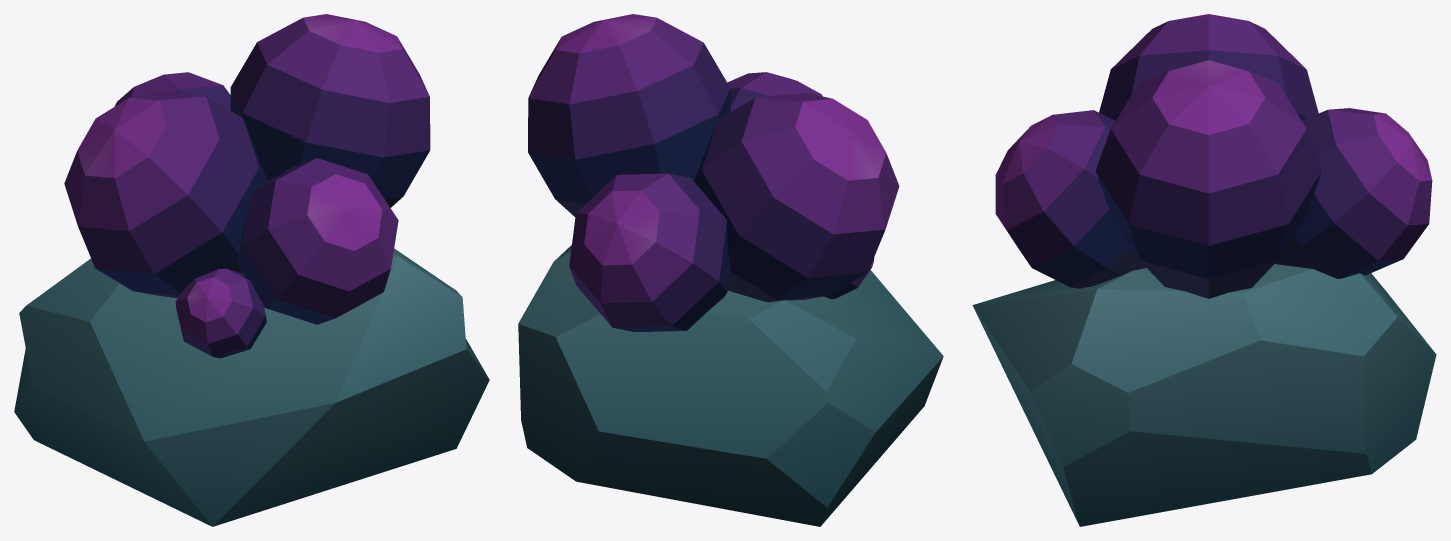
The model's file is coral_spheres_purple_2.fbx.
3 renders of one model, left to right at view 1: azimuth 30°, elevation 25°; view 2: azimuth 150°, elevation 25°; view 3: azimuth 270°, elevation 25°, orthographic. The views are drawn at different scales.
Parts seen in each view (by area): view 1: coral_spheres_purple_2; view 2: coral_spheres_purple_2; view 3: coral_spheres_purple_2.
Boxes of the visible parts, x1=… form: coral_spheres_purple_2: x1=14, y1=14, x2=489, y2=526; coral_spheres_purple_2: x1=518, y1=14, x2=943, y2=526; coral_spheres_purple_2: x1=972, y1=14, x2=1436, y2=526.
Size of the model in its own units: 0.5333 by 0.5578 by 0.5567.
